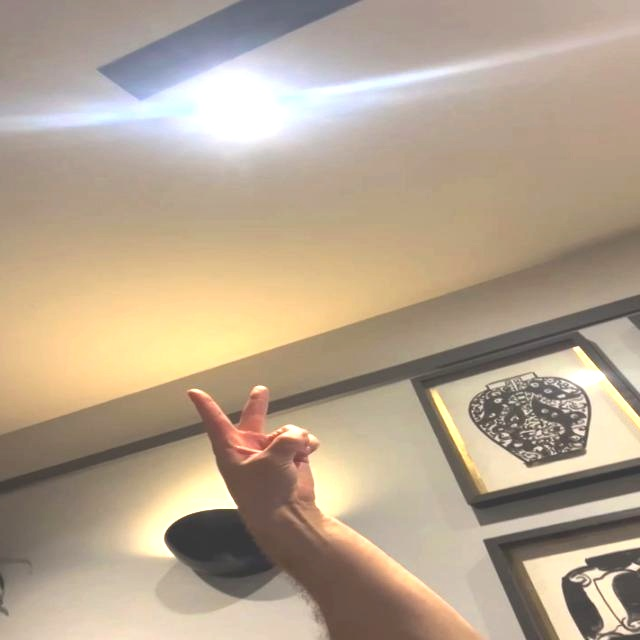Scissors: (188, 383, 334, 527)
